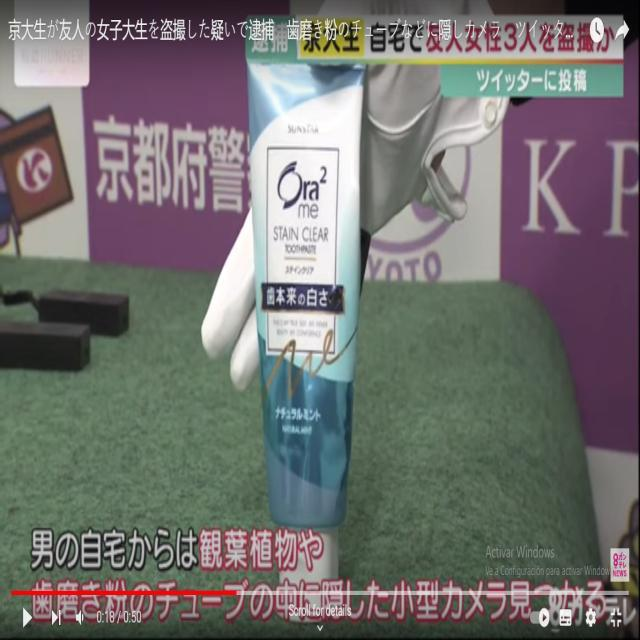hidden camera: (328, 287, 345, 308)
